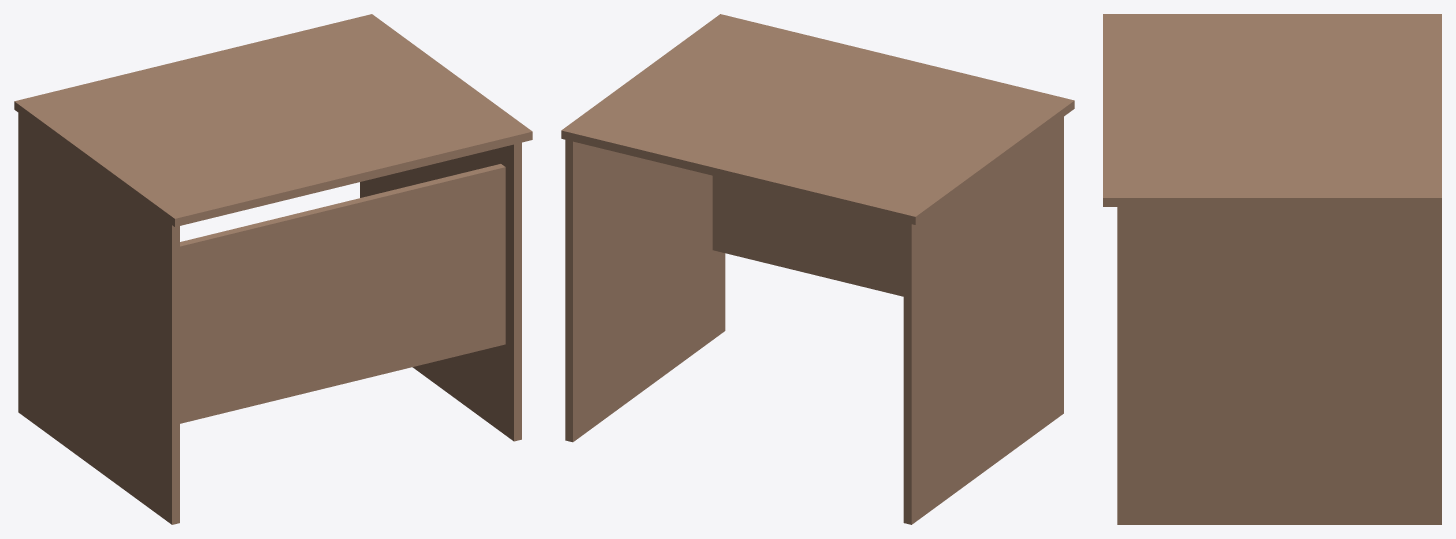
File: table2.fbx
3 views of the same model, side by side, from view 1: azimuth 30°, elevation 25°; view 2: azimuth 150°, elevation 25°; view 3: azimuth 270°, elevation 25° (orthographic). The views are drawn at different scales.
Parts seen in each view (by area): view 1: TOP_SIDE1; view 2: TOP_SIDE1; view 3: TOP_SIDE1.
Boxes of the visible parts, x1,y1,x2,y2 form: TOP_SIDE1: (14, 14, 532, 524); TOP_SIDE1: (561, 14, 1074, 524); TOP_SIDE1: (1103, 14, 1441, 524).
Size of the model in its own units: 90 by 75 by 70.
